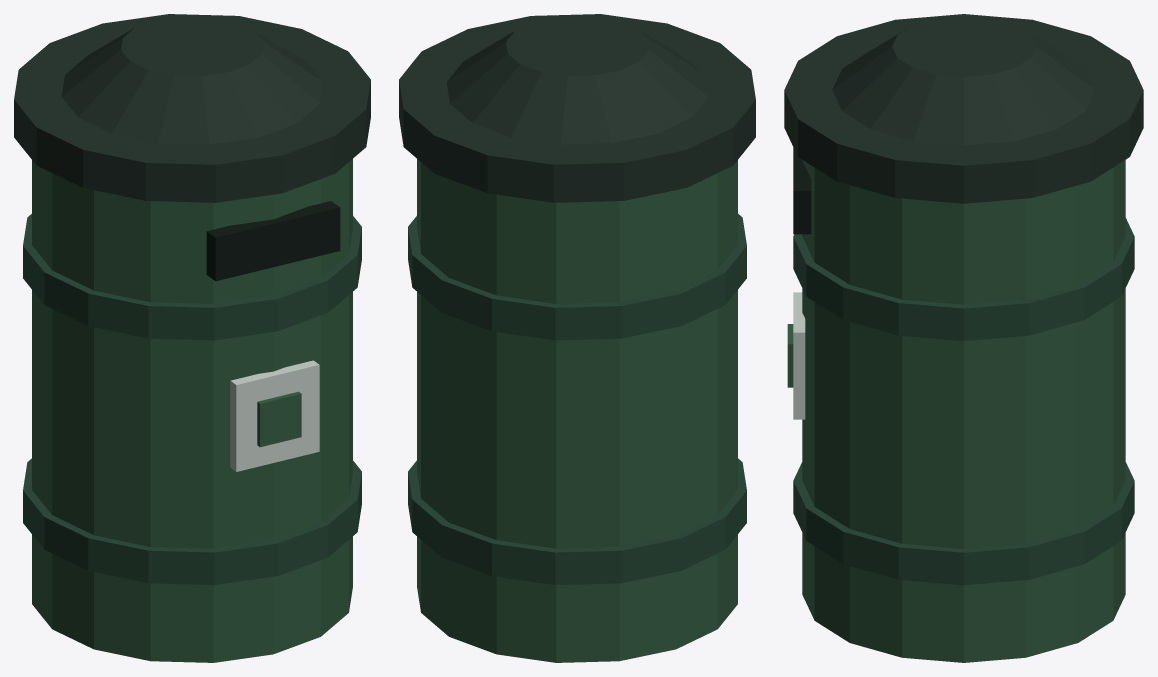
File: trashcan.glb
3 renders of one model, left to right at view 1: azimuth 30°, elevation 25°; view 2: azimuth 150°, elevation 25°; view 3: azimuth 270°, elevation 25°, orthographic.
Visible parts, largest first — view 1: gh_trashcan; view 2: gh_trashcan; view 3: gh_trashcan.
Part boxes in pixels (x1,y1,x2,y2): gh_trashcan: [14, 14, 370, 662]; gh_trashcan: [399, 14, 755, 662]; gh_trashcan: [784, 14, 1143, 662].
Bounding box in the file's own units: 0.6 × 1.01 × 0.6.
